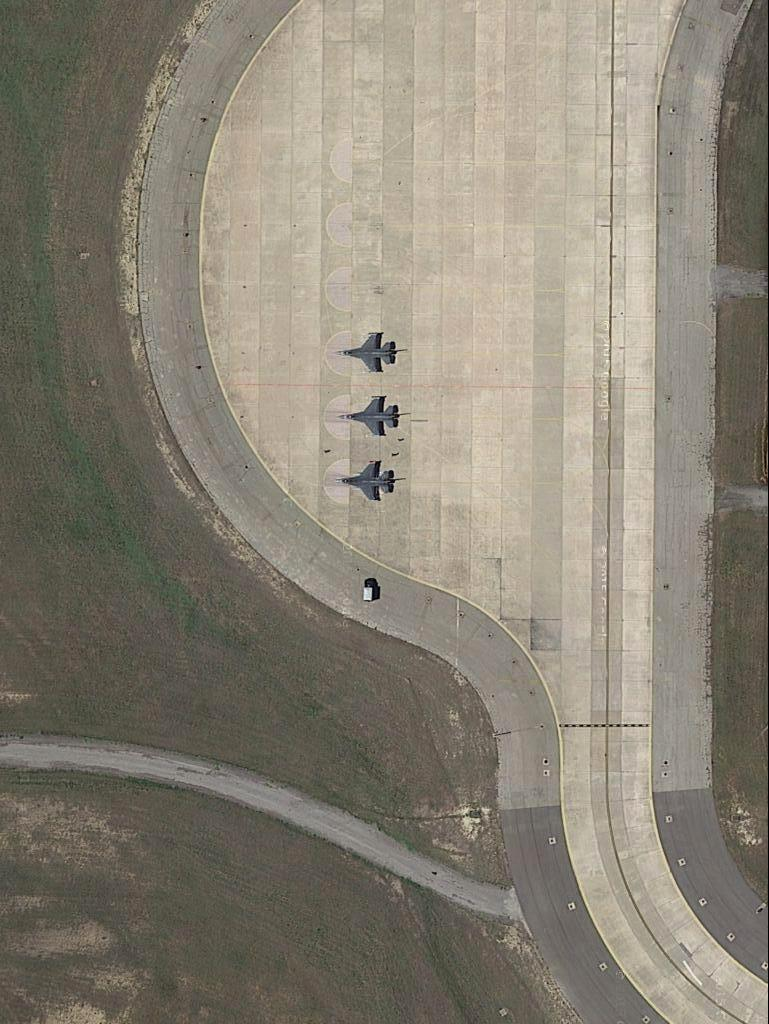F-16: (333, 455, 404, 506), (340, 391, 408, 442), (337, 327, 404, 378)
